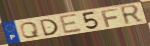5: (81, 10, 100, 30)
D: (38, 18, 60, 37)
E: (58, 13, 84, 35)
F: (100, 7, 119, 28)
Q: (19, 21, 41, 39)
R: (119, 4, 145, 26)
